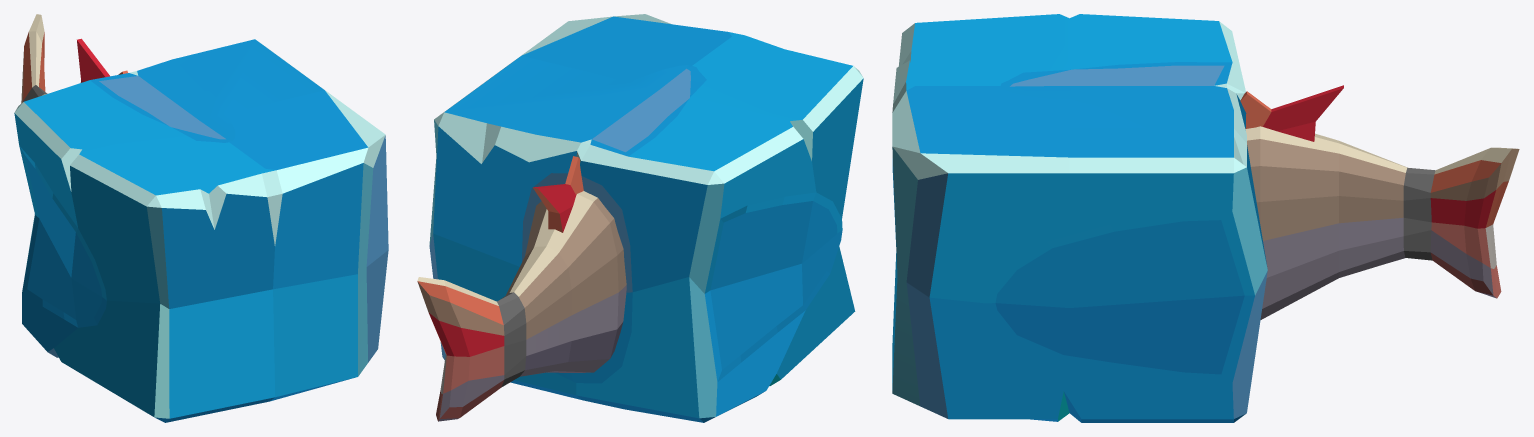
The model's file is Frost.fbx.
3 views of the same model, side by side, from view 1: azimuth 30°, elevation 25°; view 2: azimuth 150°, elevation 25°; view 3: azimuth 270°, elevation 25° (orthographic). The views are drawn at different scales.
Visible parts, largest first — view 1: PuckPiece; view 2: PuckPiece, Puck; view 3: PuckPiece, Puck.
Part boxes in pixels (box(x1,y1,x2,y2)): PuckPiece: box(14, 14, 388, 422); PuckPiece: box(417, 14, 863, 422); Puck: box(497, 292, 526, 387); PuckPiece: box(892, 14, 1519, 422); Puck: box(1403, 167, 1435, 260).
Size of what is drawn, in the model's own units: 0.4575 by 0.3742 by 0.7865.
